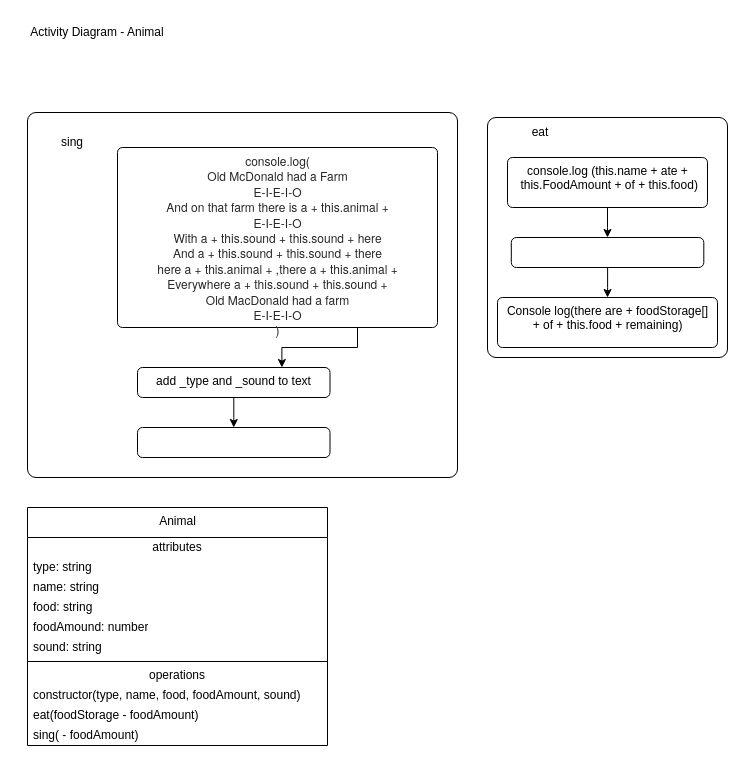
Some shapes in this 745 by 763 pixel diagram are drawn without their labels. The shapes that lost their labels are listed below. From the top down, each one's centre as x and y in pixels, then its label:
At point 607,252: "foodStorage[] - this.food".
At point 233,442: "Console log".
